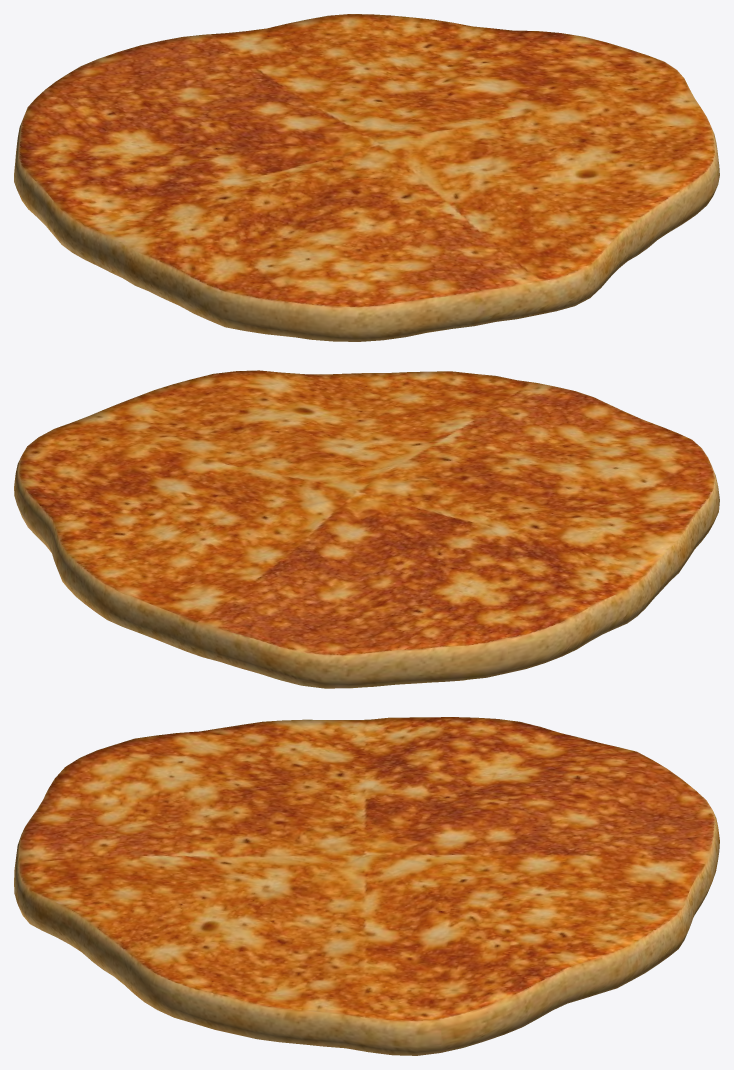
File: savory-pancake-2.glb
3 renders of one model, top to bottom at view 1: azimuth 30°, elevation 25°; view 2: azimuth 150°, elevation 25°; view 3: azimuth 270°, elevation 25°, orthographic. The views are drawn at different scales.
Visible parts, largest first — view 1: savory-pancake; view 2: savory-pancake; view 3: savory-pancake.
Boxes of the visible parts, x1,y1,x2,y2 form: savory-pancake: (14,14,719,341); savory-pancake: (14,370,719,688); savory-pancake: (14,717,719,1055).
Size of the model in its own units: 2.4 by 0.1906 by 2.33.
1 material, 1 textured.
